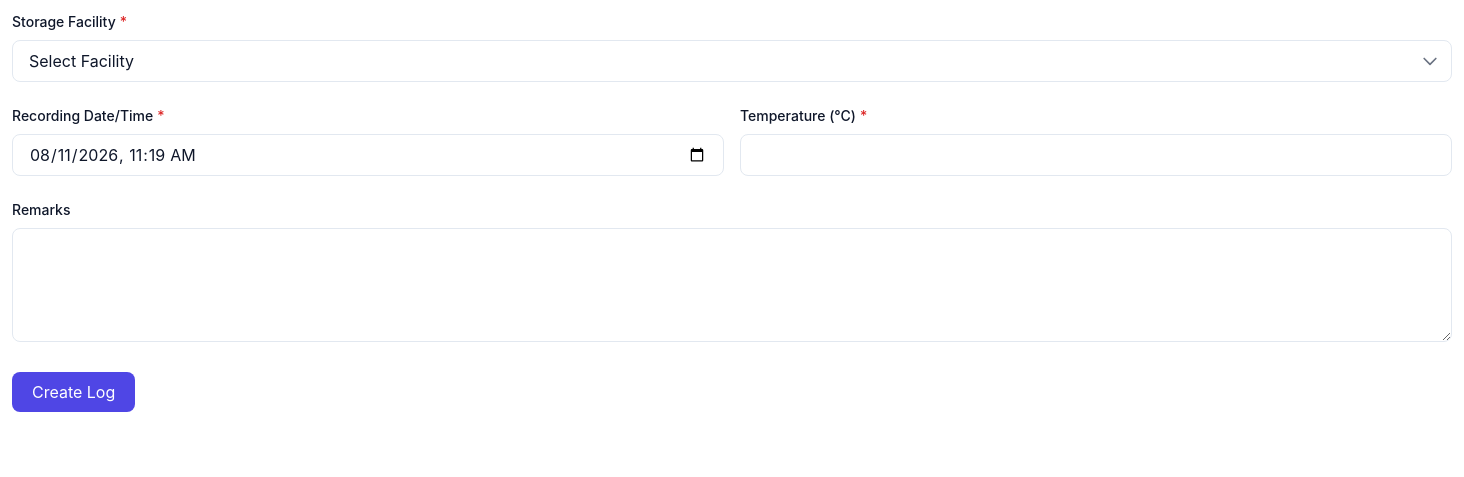
Scenario: TemperatureLogForm › shows validation errors for required fields
This screenshot has width=1464, height=477.
Clear the field named "recordingDateTime": [368, 155] box [12, 134, 724, 176]
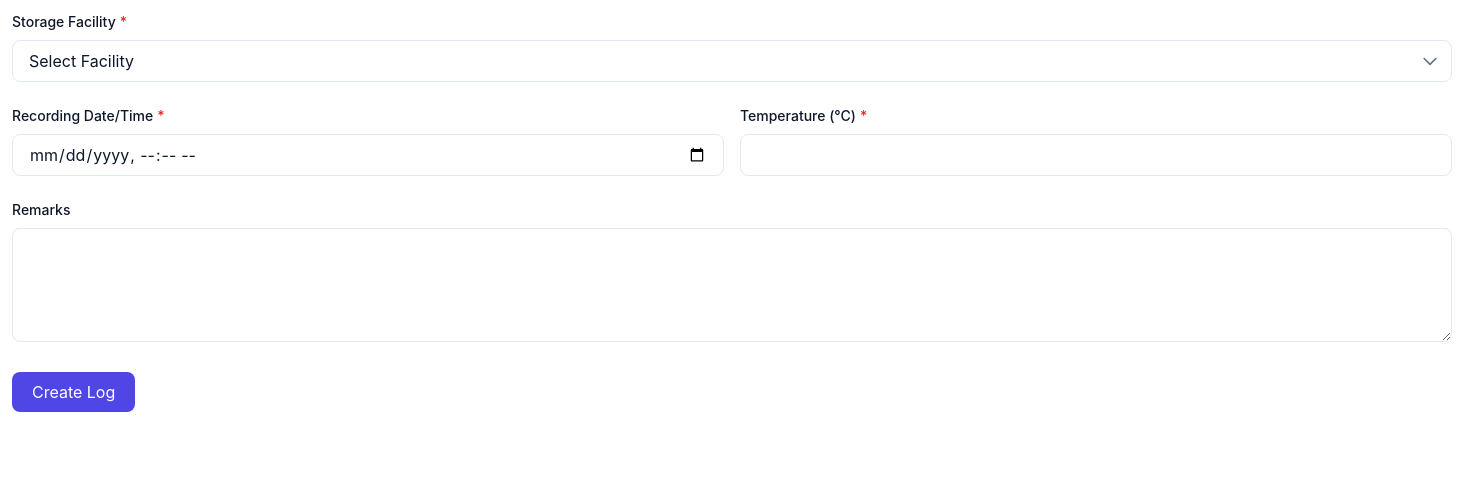
Click the button "Create Log": [74, 392] box [12, 372, 135, 412]
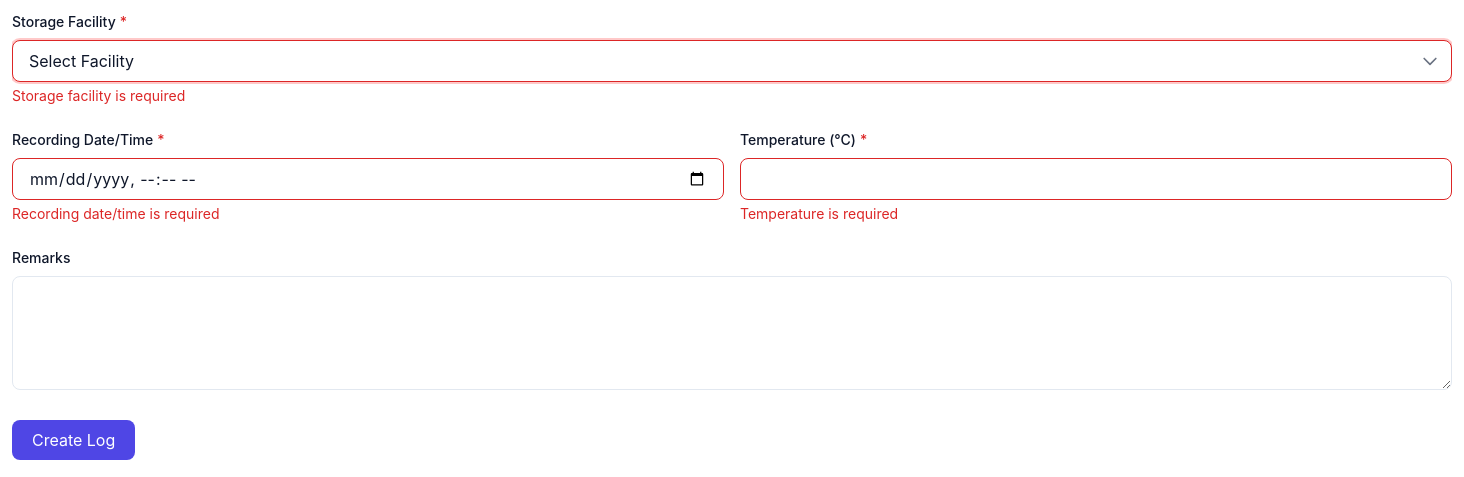
Check: the text "Storage facility is required" is shown, box [12, 87, 185, 104]
Check: the text "Recording date/time is required" is shown, box [12, 205, 220, 222]
Check: the text "Temperature is required" is shown, box [740, 205, 898, 222]
